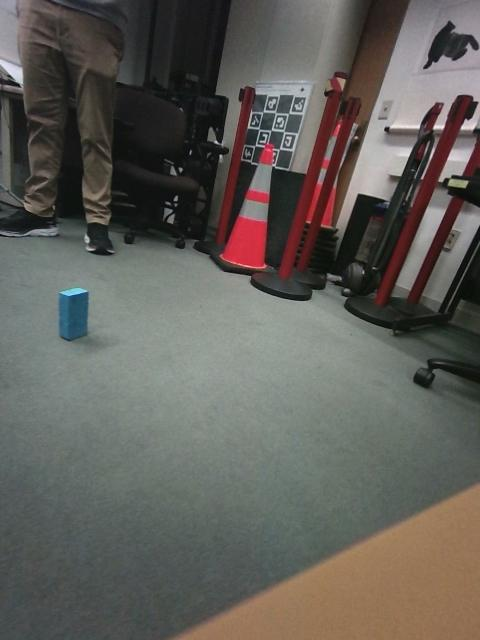block: (424, 368, 467, 423)
